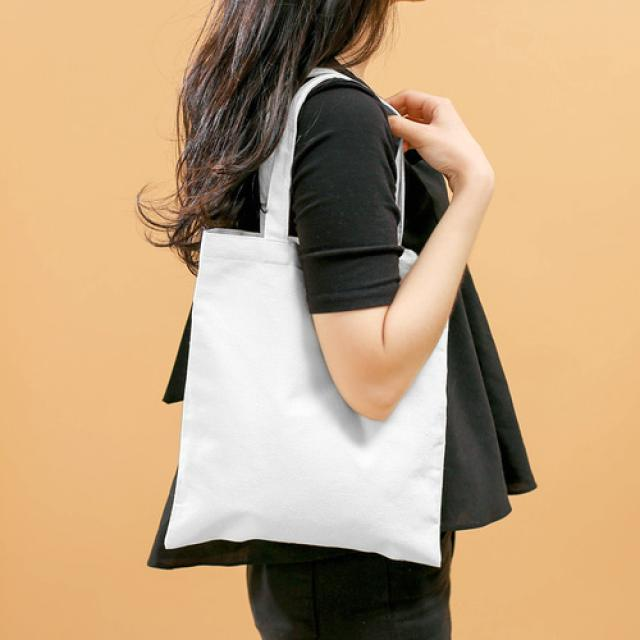ecobag: (152, 78, 470, 580)
